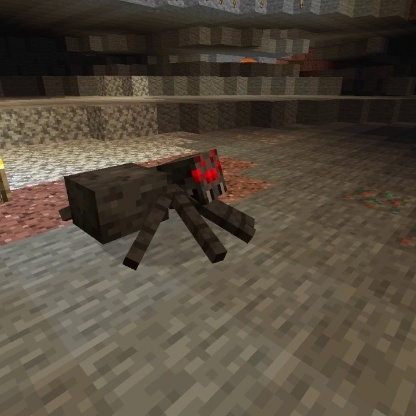spider: (55, 145, 260, 273)
